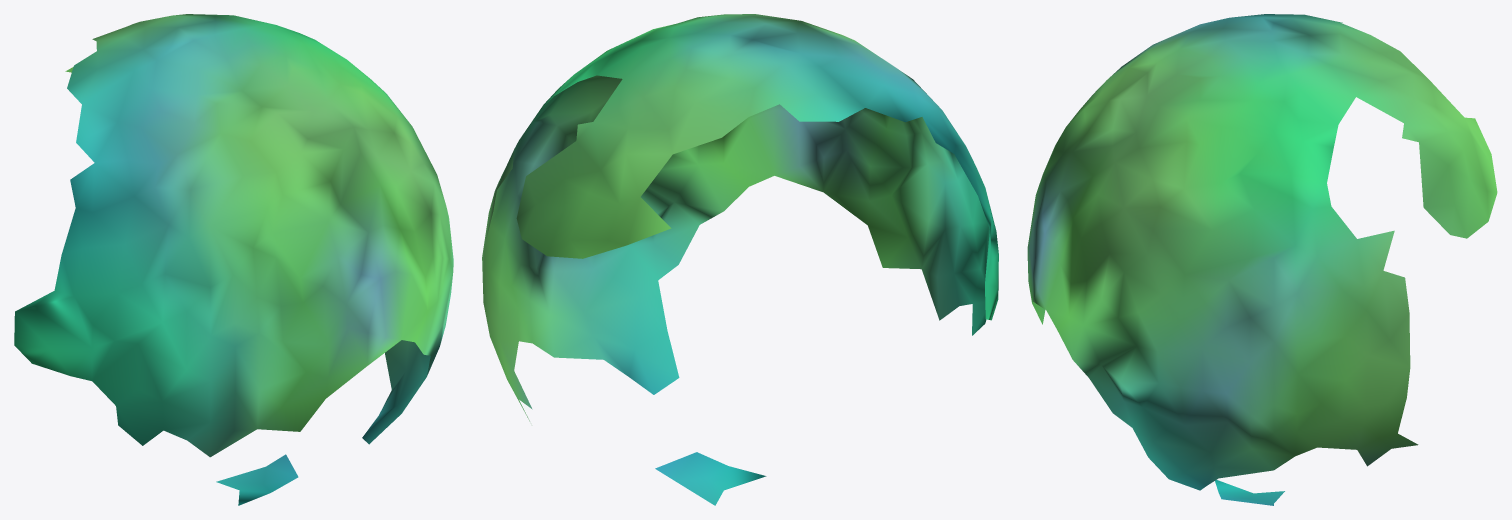
The model's file is space-nebulae-nebula_v14.glb.
3 views of the same model, side by side, from view 1: azimuth 30°, elevation 25°; view 2: azimuth 150°, elevation 25°; view 3: azimuth 270°, elevation 25° (orthographic). The views are drawn at different scales.
Parts seen in each view (by area): view 1: Nebula_v14; view 2: Nebula_v14; view 3: Nebula_v14.
Boxes of the visible parts, <box> form: Nebula_v14: <box>14,14,453,505</box>; Nebula_v14: <box>482,14,998,505</box>; Nebula_v14: <box>1027,14,1497,505</box>.
Size of the model in its own units: 0.4952 by 0.5 by 0.4777.
